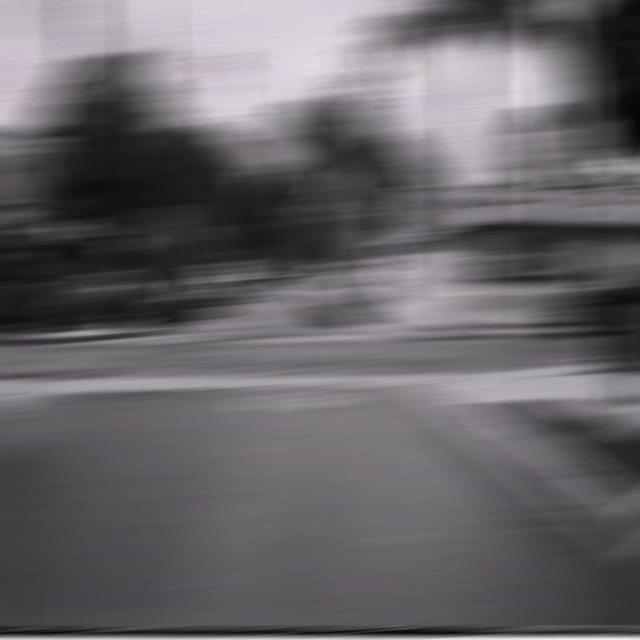stop: (508, 104, 572, 187)
